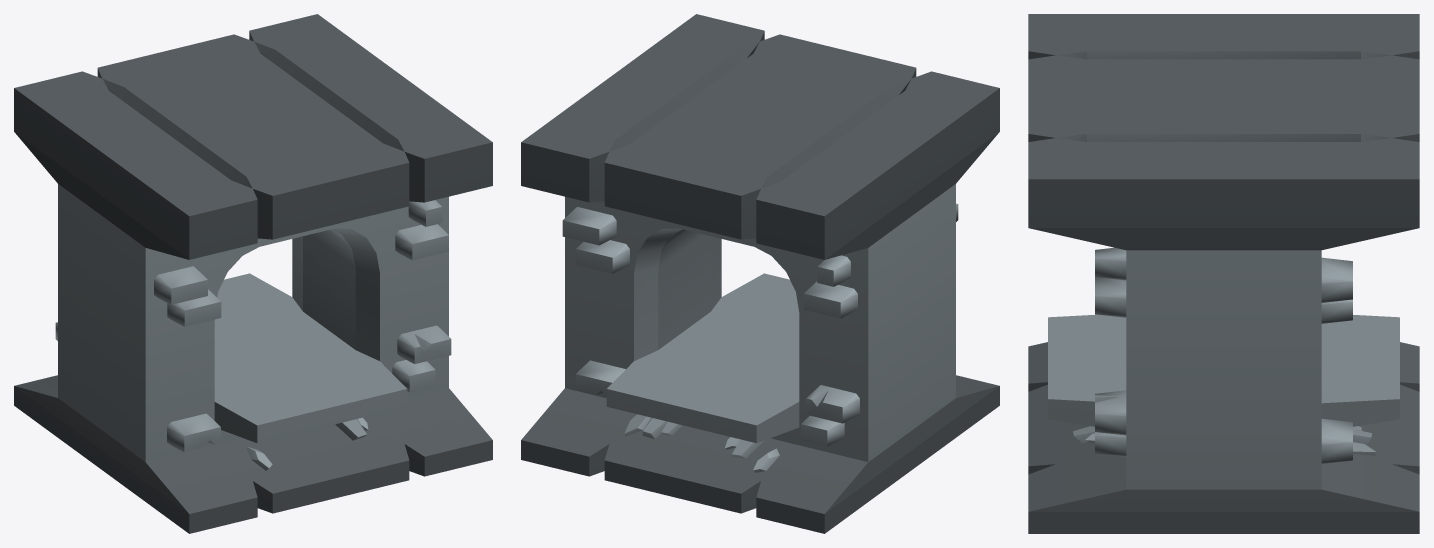
The model's file is wall_archwindow.glb.
The picture shows the model from 3 angles, left to right: view 1: azimuth 30°, elevation 25°; view 2: azimuth 150°, elevation 25°; view 3: azimuth 270°, elevation 25°; orthographic projection. The views are drawn at different scales.
Visible parts, largest first — view 1: wall_archedwindow_open; view 2: wall_archedwindow_open; view 3: wall_archedwindow_open.
Boxes of the visible parts, x1=… form: wall_archedwindow_open: x1=14, y1=14, x2=492, y2=533; wall_archedwindow_open: x1=521, y1=14, x2=999, y2=533; wall_archedwindow_open: x1=1028, y1=14, x2=1419, y2=533.
Size of the model in its own units: 1 by 1 by 1.
1 material, 1 textured.
